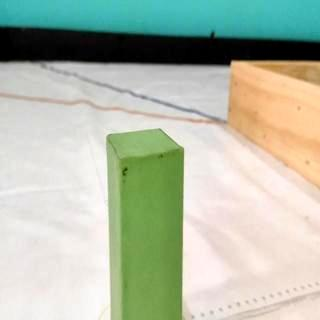greenbox: (105, 128, 186, 320)
